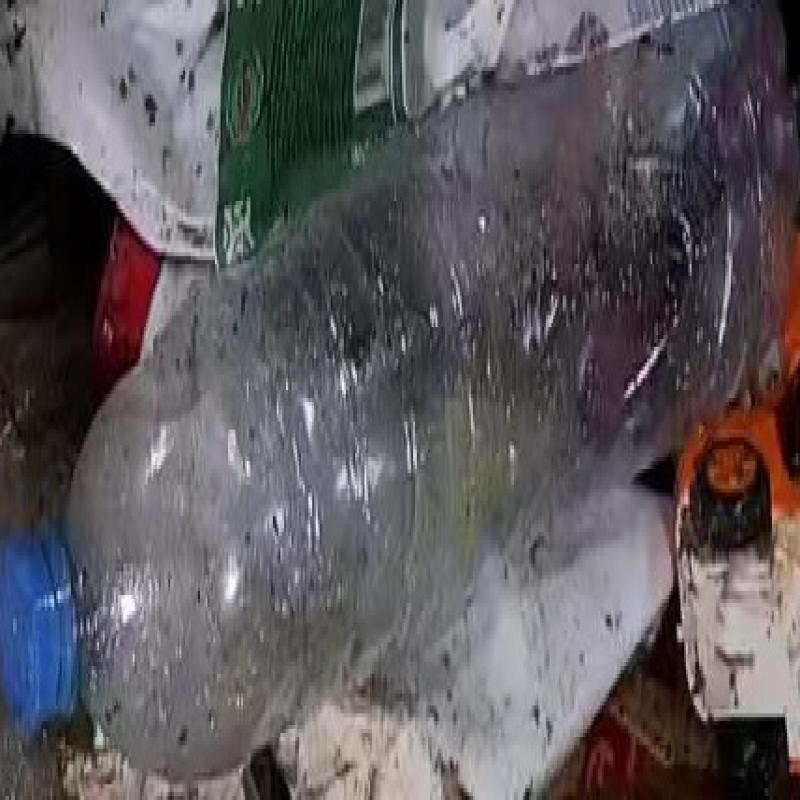botella: (0, 4, 798, 800)
